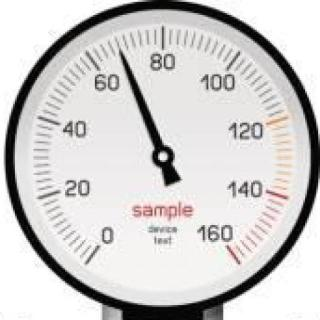gauge: (0, 0, 320, 320), (197, 222, 251, 272), (74, 223, 126, 273), (149, 143, 175, 169), (114, 44, 128, 61)
